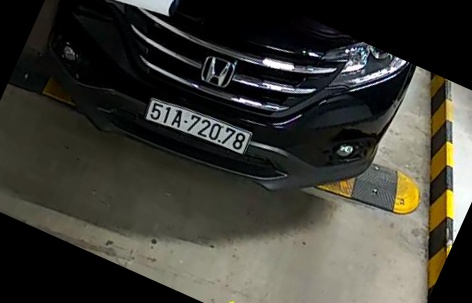plate: (145, 95, 254, 164)
